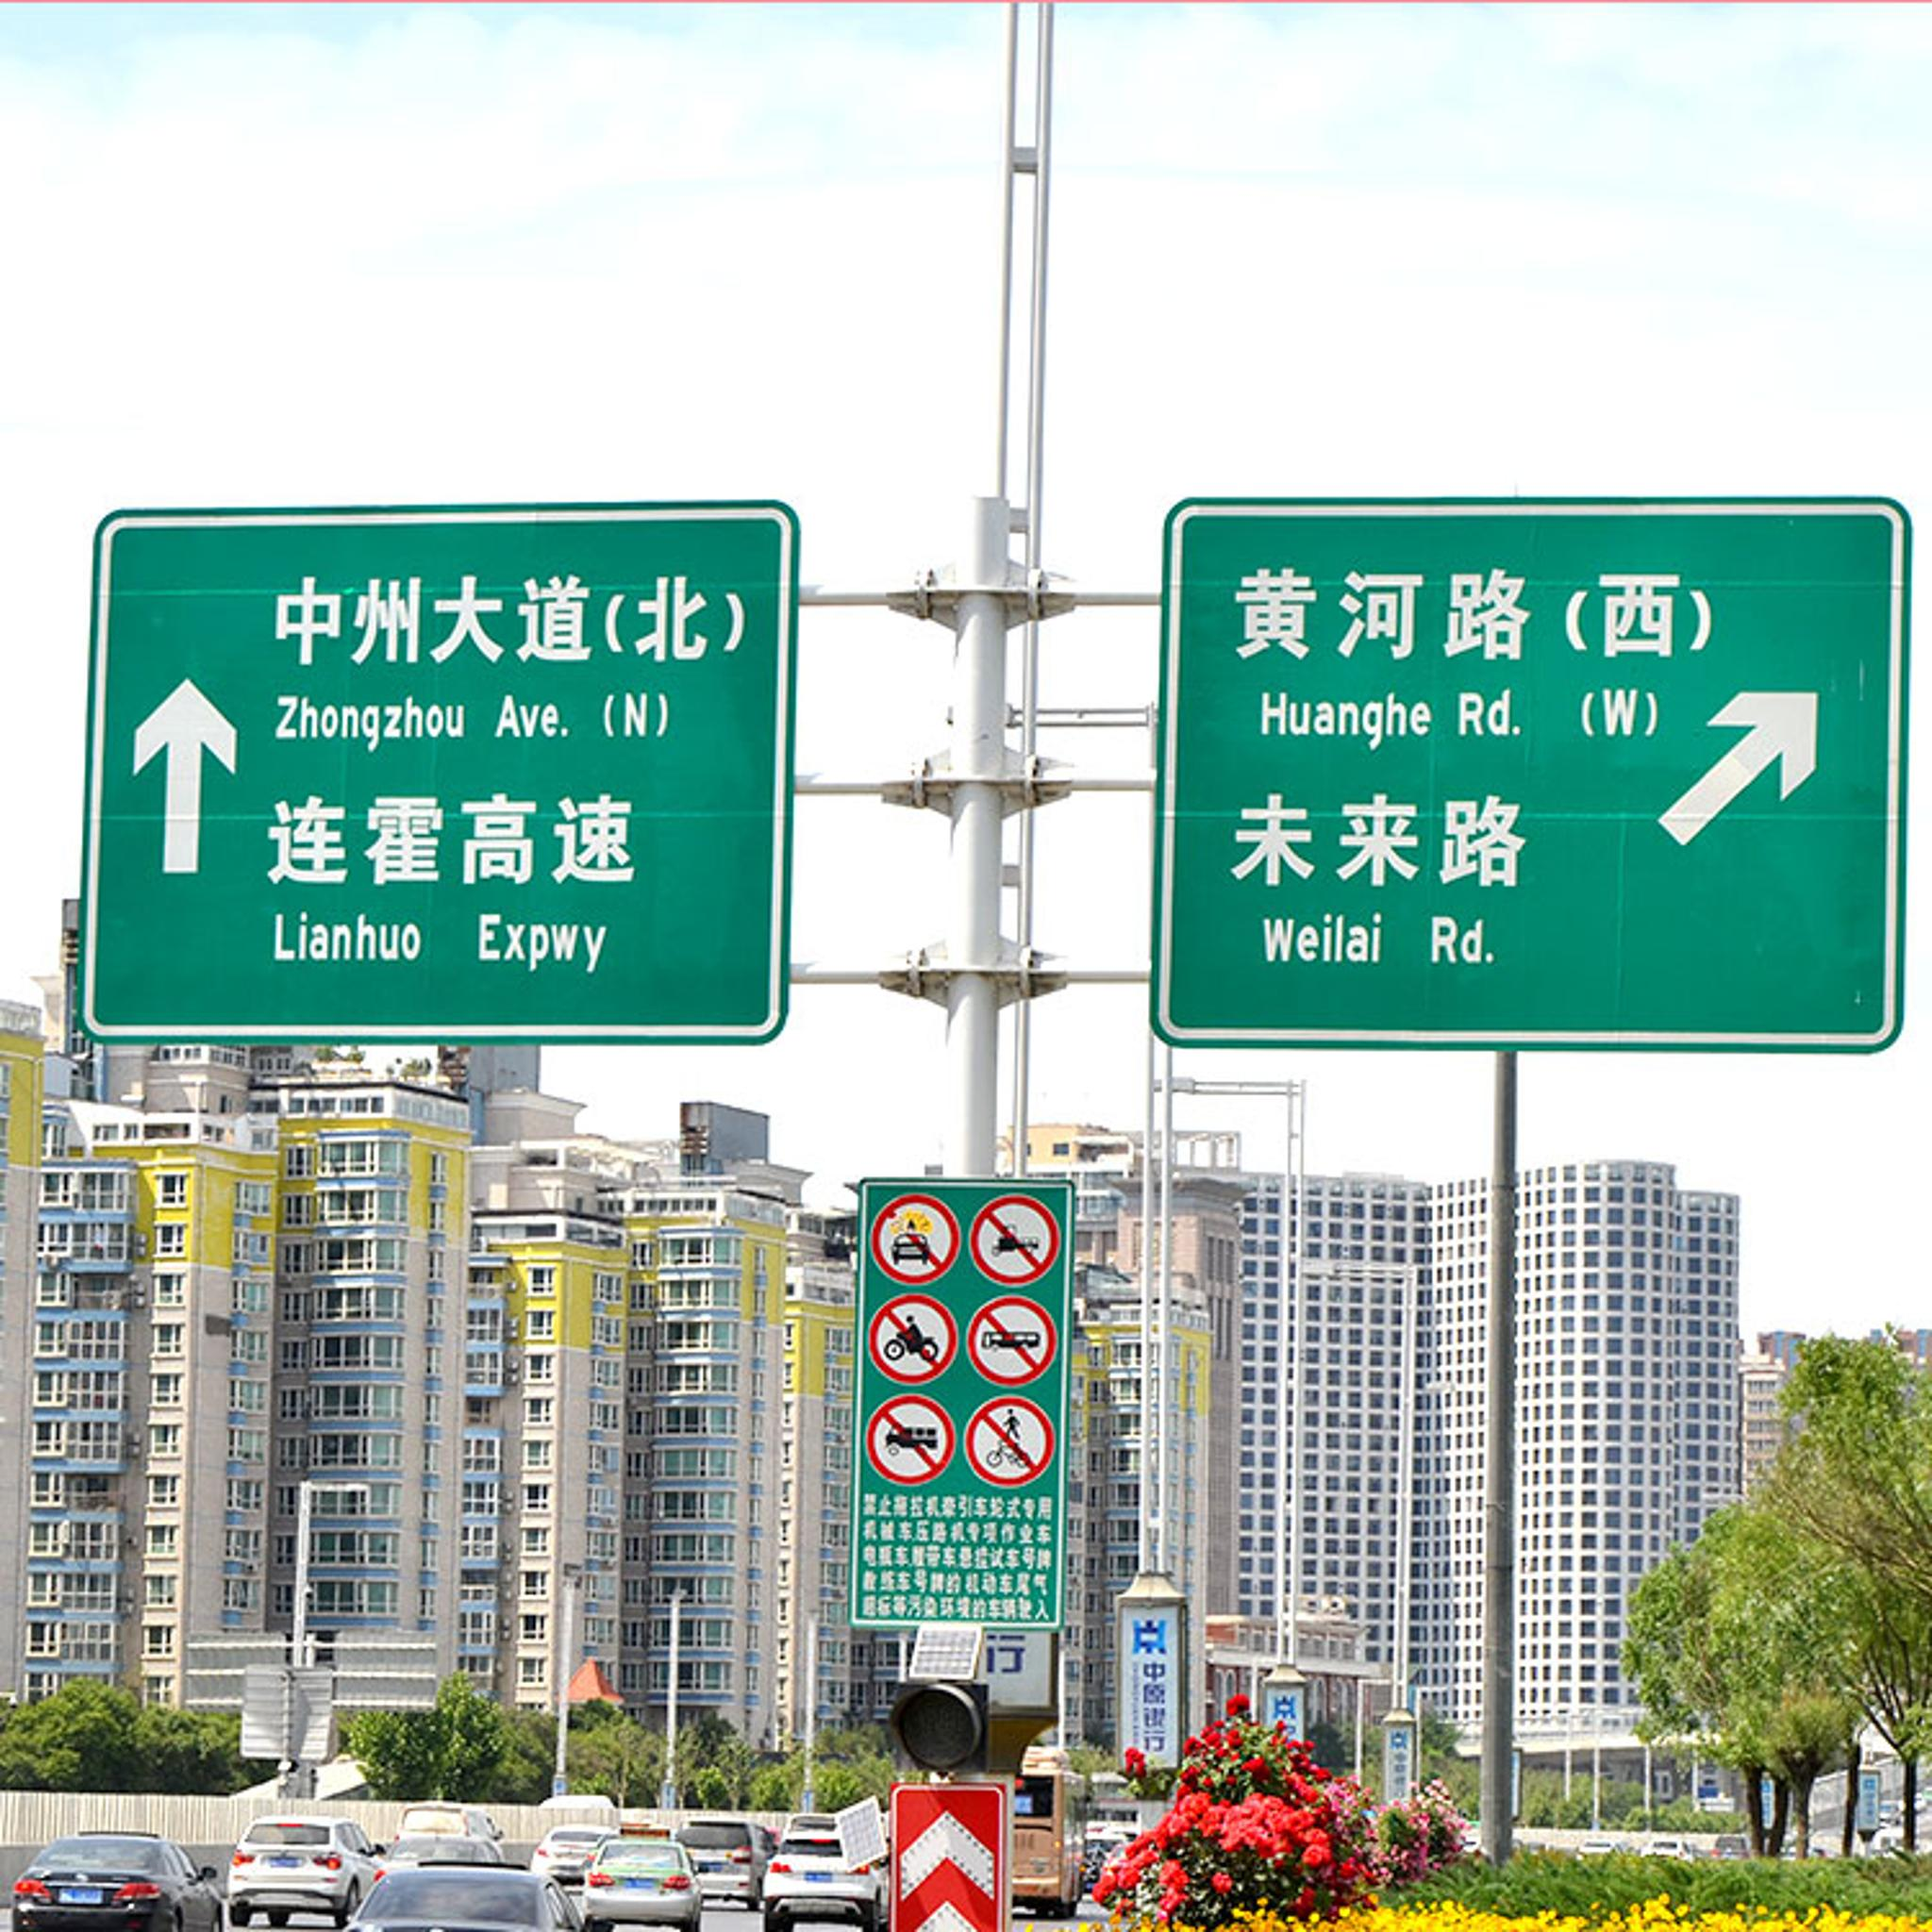p12: (867, 1292, 959, 1385)
p18: (968, 1194, 1063, 1288)
p26: (863, 1394, 957, 1484)
p27: (870, 1192, 961, 1286)
p3: (964, 1295, 1058, 1387)
